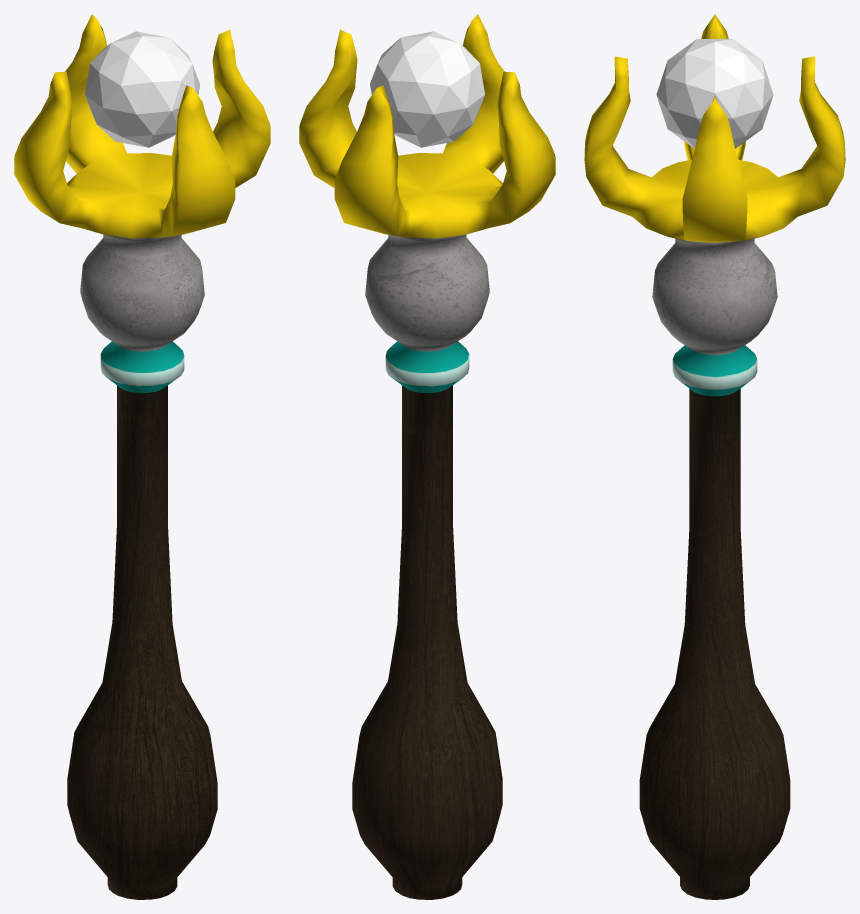
File: Crystal Ball Stand.fbx
3 views of the same model, side by side, from view 1: azimuth 30°, elevation 25°; view 2: azimuth 150°, elevation 25°; view 3: azimuth 270°, elevation 25° (orthographic).
Parts seen in each view (by area): view 1: Stand, Crystal Ball; view 2: Stand, Crystal Ball; view 3: Stand, Crystal Ball.
Part boxes in pixels (x1=…): Stand: x1=14, y1=14, x2=270, y2=899; Crystal Ball: x1=85, y1=31, x2=199, y2=147; Stand: x1=299, y1=14, x2=555, y2=899; Crystal Ball: x1=370, y1=31, x2=484, y2=147; Stand: x1=584, y1=14, x2=845, y2=899; Crystal Ball: x1=656, y1=39, x2=773, y2=148.
Size of the model in its own units: 0.402 by 1.43 by 0.402.
